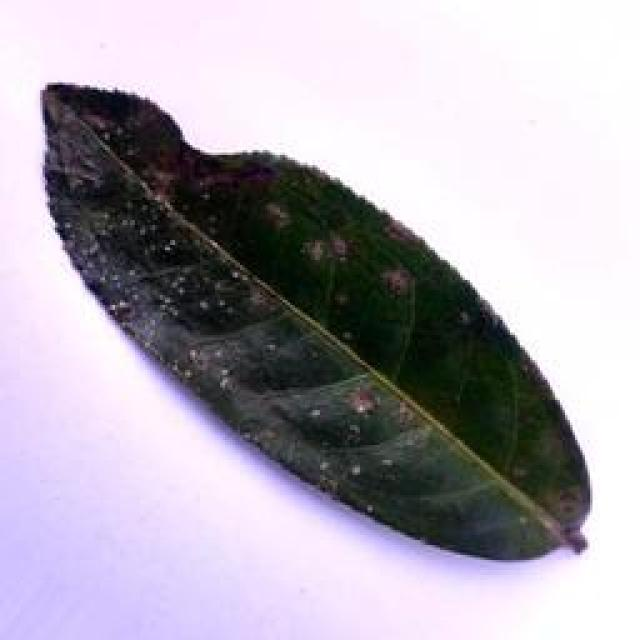Algal Leaf Spot: (35, 72, 593, 559)
